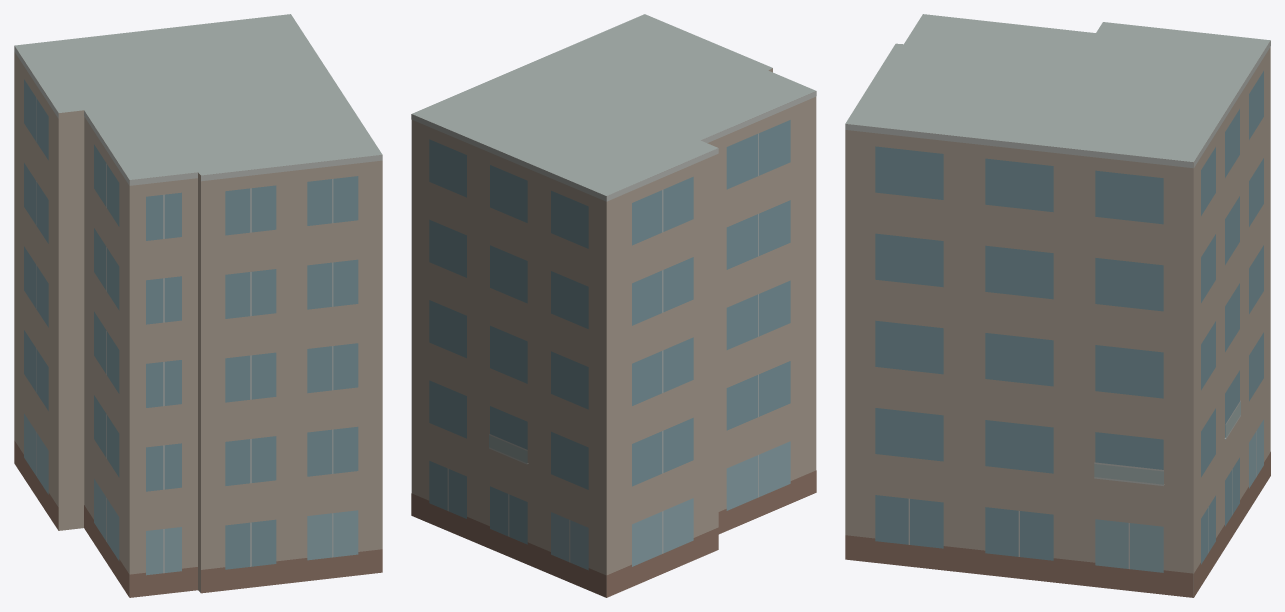
The model's file is survey-upis-32762613.glb.
The picture shows the model from 3 angles, left to right: view 1: azimuth 30°, elevation 25°; view 2: azimuth 150°, elevation 25°; view 3: azimuth 270°, elevation 25°; orthographic projection. The views are drawn at different scales.
Parts seen in each view (by area): view 1: survey-upis-32762613.tmp; view 2: survey-upis-32762613.tmp; view 3: survey-upis-32762613.tmp.
Part boxes in pixels (x1=…): survey-upis-32762613.tmp: x1=14, y1=14, x2=382, y2=597; survey-upis-32762613.tmp: x1=411, y1=14, x2=816, y2=597; survey-upis-32762613.tmp: x1=845, y1=14, x2=1270, y2=597.
Bounding box in the file's own units: 12.81 × 17.55 × 15.55.
